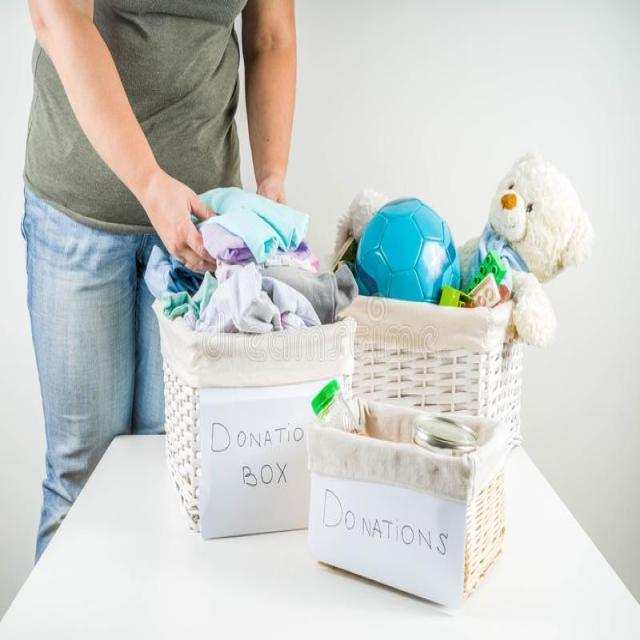clothes: (212, 231, 326, 336)
